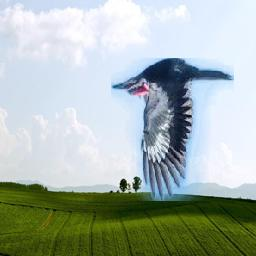Woodpecker: (112, 59, 235, 202)
